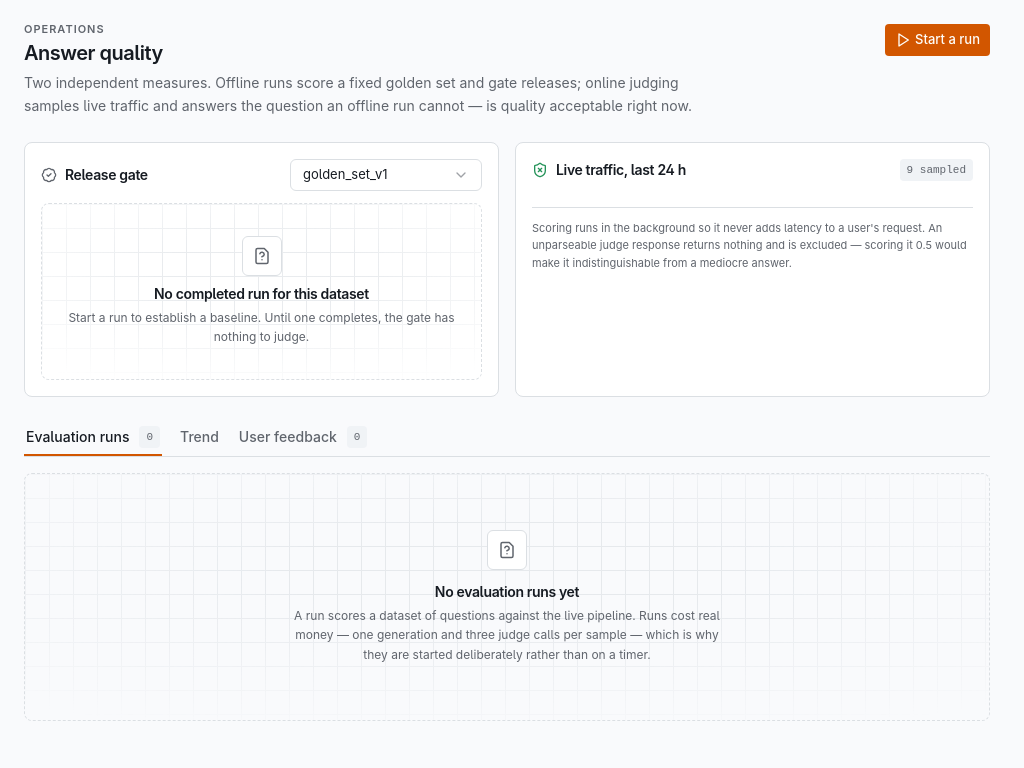
the quality page against real payloads › survives a feedback summary with no by_tag
Click the tab "User feedback 0": (303, 438) [237,420,369,456]
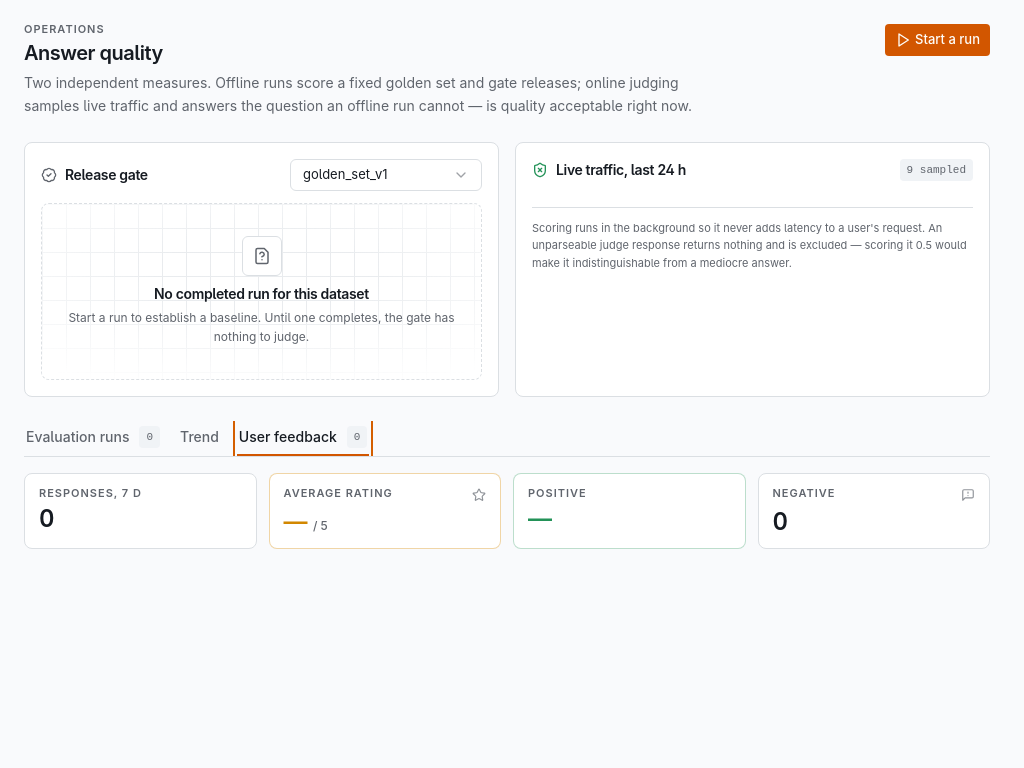
expect the text "Average rating" is shown: met, box [284,488,393,498]
